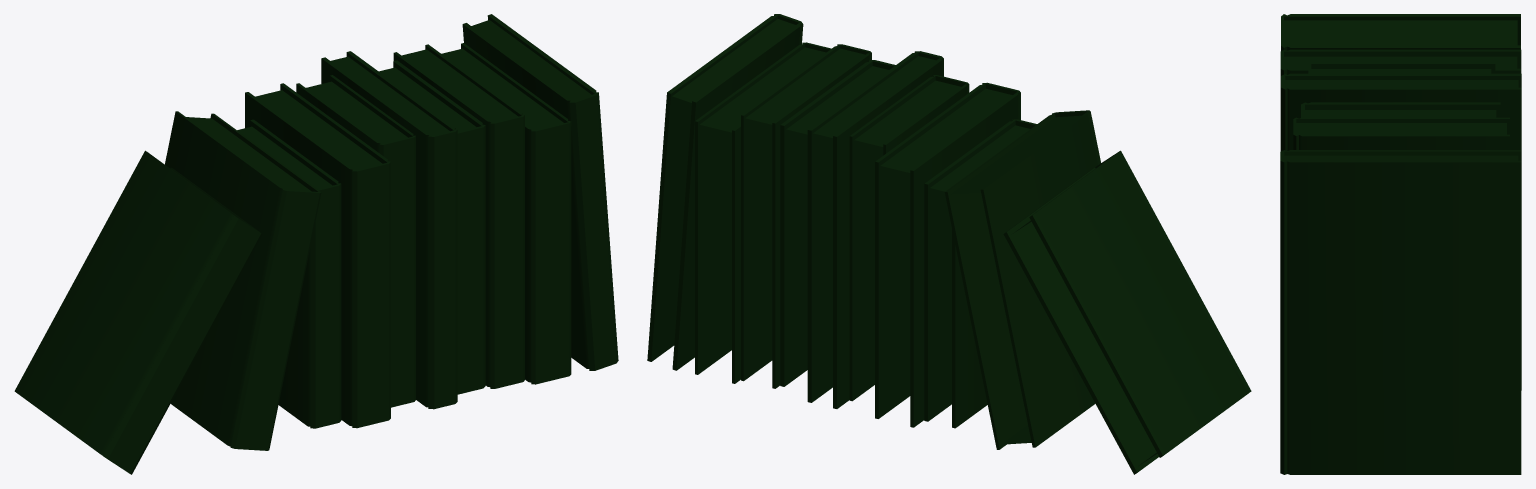
The model's file is HalloweenRoomA_BooksP.fbx.
3 renders of one model, left to right at view 1: azimuth 30°, elevation 25°; view 2: azimuth 150°, elevation 25°; view 3: azimuth 270°, elevation 25°, orthographic. The views are drawn at different scales.
Visible parts, largest first — view 1: HalloweenRoomA_BooksP; view 2: HalloweenRoomA_BooksP; view 3: HalloweenRoomA_BooksP.
Part boxes in pixels (bbox=[...]): HalloweenRoomA_BooksP: bbox=[14, 14, 618, 474]; HalloweenRoomA_BooksP: bbox=[647, 14, 1251, 474]; HalloweenRoomA_BooksP: bbox=[1280, 14, 1521, 474].
Bounding box in the file's own units: 50.29 × 26.35 × 18.8.
